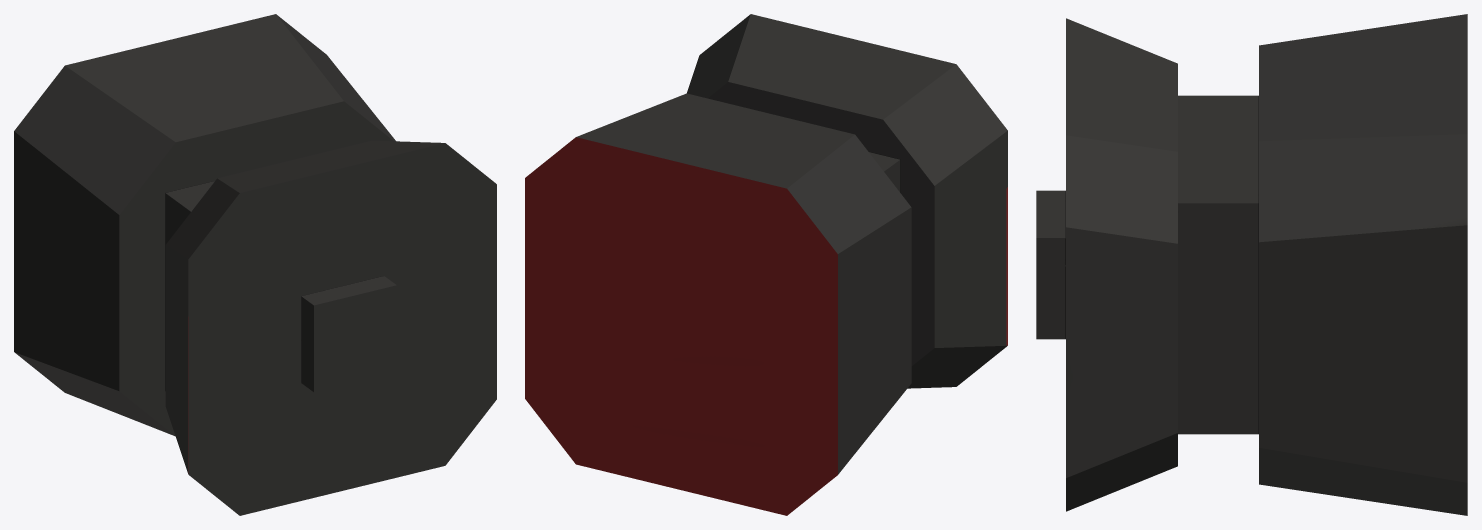
Rendered from naturalmagnet.obj.
The picture shows the model from 3 angles, left to right: view 1: azimuth 30°, elevation 25°; view 2: azimuth 150°, elevation 25°; view 3: azimuth 270°, elevation 25°; orthographic projection. The views are drawn at different scales.
Parts seen in each view (by area): view 1: natural-magnet; view 2: natural-magnet; view 3: natural-magnet.
Boxes of the visible parts, x1,y1,x2,y2 form: natural-magnet: (14,14,496,515); natural-magnet: (525,14,1007,515); natural-magnet: (1036,14,1467,515).
Bounding box in the file's own units: 1.96 × 1.96 × 2.
